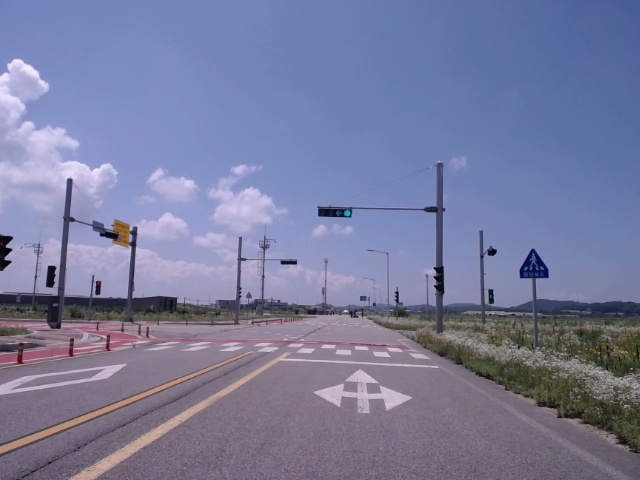all_green_4: (318, 207, 353, 217)
